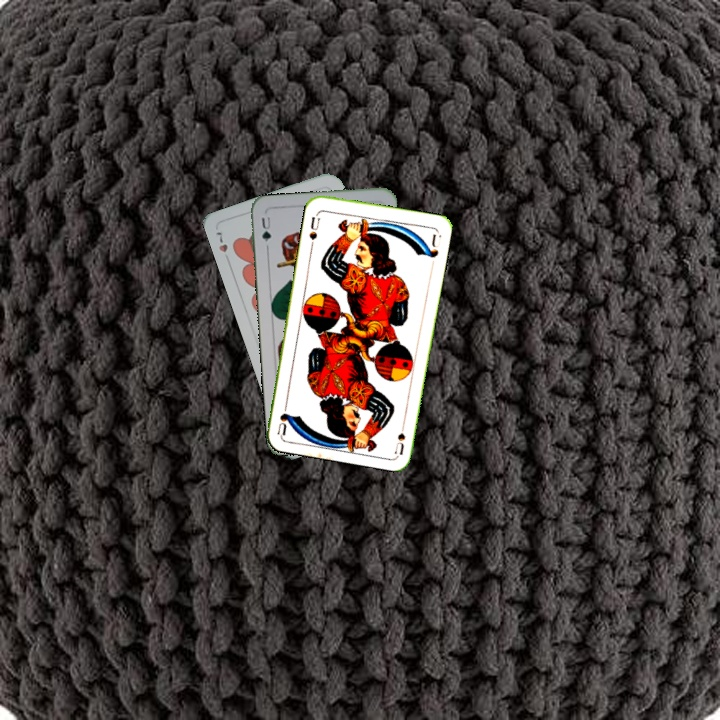GU: (257, 212, 274, 245)
H7: (211, 228, 232, 265)
SU: (391, 415, 408, 456), (305, 208, 322, 242)
